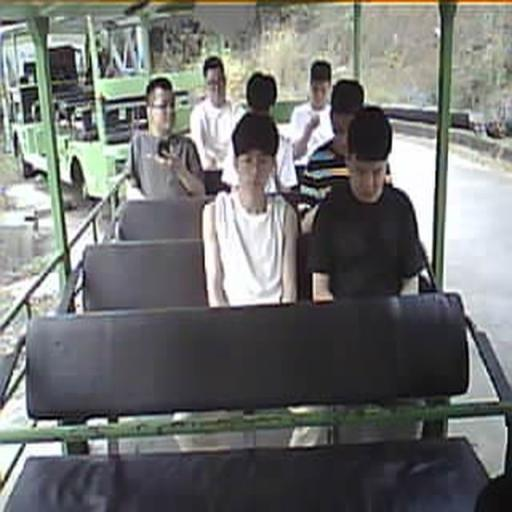persona: (307, 105, 437, 302), (201, 111, 302, 308), (303, 78, 393, 194), (124, 76, 206, 200), (222, 71, 299, 194), (189, 55, 245, 175), (289, 58, 336, 168)
